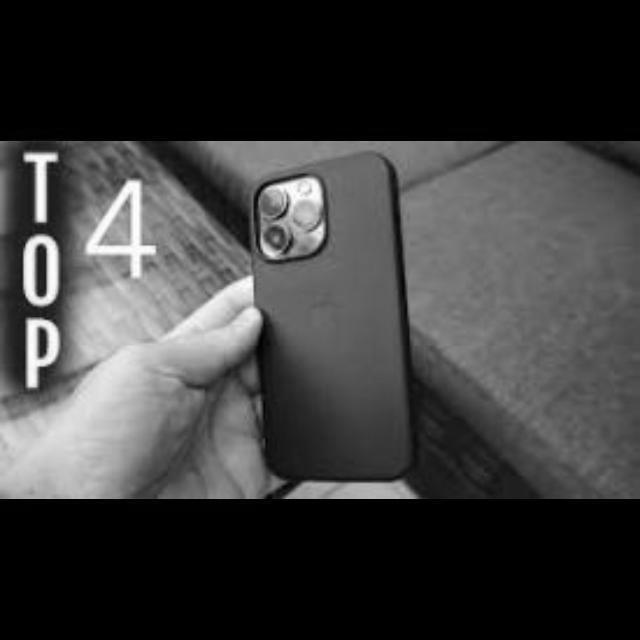fake: (231, 144, 428, 490)
